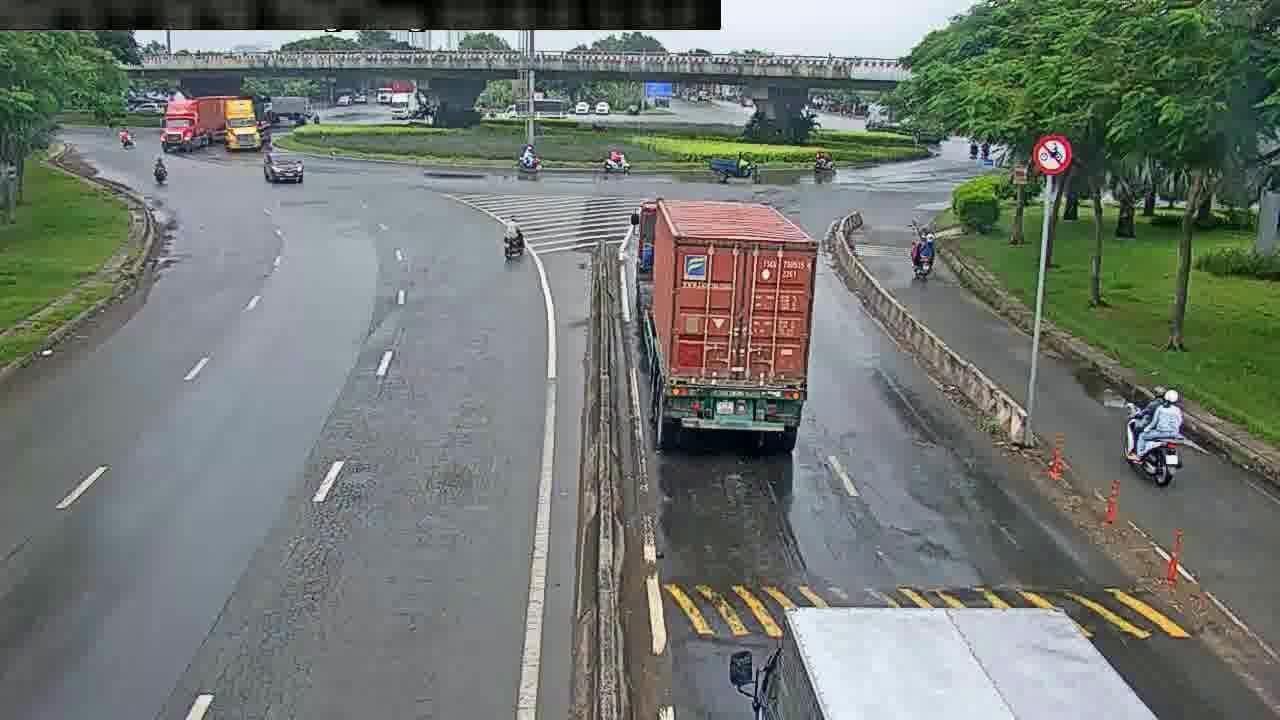8: (633, 196, 813, 449)
container: (260, 149, 302, 183)
motorbike: (1121, 381, 1175, 482), (911, 235, 936, 282), (508, 214, 524, 262), (598, 149, 630, 173), (518, 144, 542, 170), (815, 151, 833, 169)
